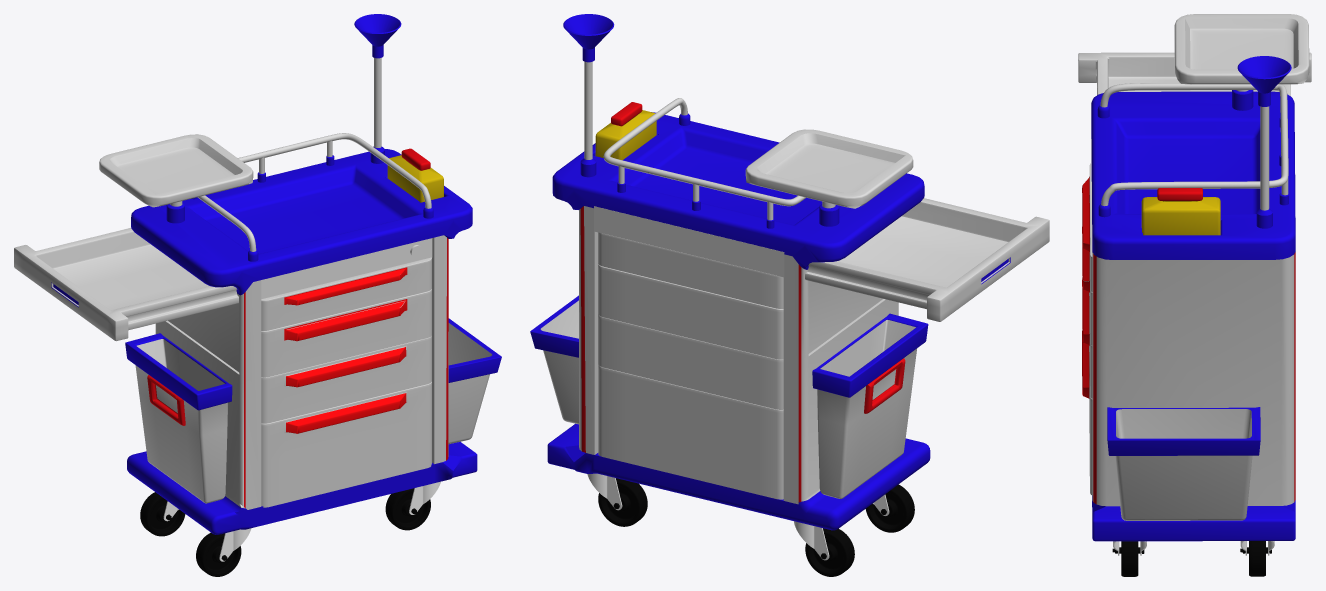
The model's file is CocheDeParo_2.fbx.
3 renders of one model, left to right at view 1: azimuth 30°, elevation 25°; view 2: azimuth 150°, elevation 25°; view 3: azimuth 270°, elevation 25°, orthographic. The views are drawn at different scales.
Visible parts, largest first — view 1: Cube.014, Cube.005, Cube.010, Cube.007, Cube.012, Cube.004, Cube.008, Cube.013, Cube.006, Cube.009, NurbsPath.002, Cube.011 (+5 smaller); view 2: Cube.014, Cube.005, Cube.010, Cube.007, Cube.012, Cube.004, Cube.008, Cube.013, Cube.009, Cube.006, NurbsPath.002, Cube.011 (+7 smaller); view 3: Cube.014, Cube.006, Cube.008, Cube.010, Cube.011, NurbsPath.002, Cylinder.017, Cylinder.016, Cube.013, Cube.005, Object_11.002, Cube.004 (+3 smaller).
Part boxes in pixels (x1,y1,x2,y2): Cube.014: [127, 149, 477, 534]; Cube.005: [261, 382, 431, 507]; Cube.010: [14, 228, 238, 341]; Cube.007: [125, 333, 232, 503]; Cube.012: [261, 289, 431, 377]; Cube.004: [261, 336, 431, 423]; Cube.008: [99, 134, 253, 207]; Cube.013: [261, 257, 431, 330]; Cube.006: [448, 318, 501, 443]; Cube.009: [261, 238, 432, 298]; NurbsPath.002: [198, 133, 431, 251]; Cube.011: [387, 148, 443, 202]; Cube.014: [547, 112, 930, 530]; Cube.005: [598, 365, 783, 499]; Cube.010: [805, 198, 1049, 321]; Cube.007: [812, 313, 928, 498]; Cube.012: [598, 264, 783, 359]; Cube.004: [598, 314, 783, 409]; Cube.008: [745, 129, 913, 208]; Cube.013: [598, 232, 783, 308]; Cube.009: [594, 206, 784, 277]; Cube.006: [530, 295, 578, 424]; NurbsPath.002: [603, 98, 805, 206]; Cube.011: [595, 102, 656, 160]; Cube.014: [1091, 91, 1295, 541]; Cube.006: [1107, 407, 1260, 520]; Cube.008: [1174, 14, 1309, 84]; Cube.010: [1078, 52, 1311, 96]; Cube.011: [1141, 188, 1220, 235]; NurbsPath.002: [1100, 83, 1288, 206]; Cylinder.017: [1237, 56, 1291, 106]; Cylinder.016: [1256, 106, 1272, 228]; Cube.013: [1082, 163, 1092, 291]; Cube.005: [1082, 330, 1092, 494]; Object_11.002: [1121, 541, 1138, 576]; Cube.004: [1082, 277, 1092, 398].
Bounding box in the file's own units: 1.79 × 1.94 × 0.7861.
